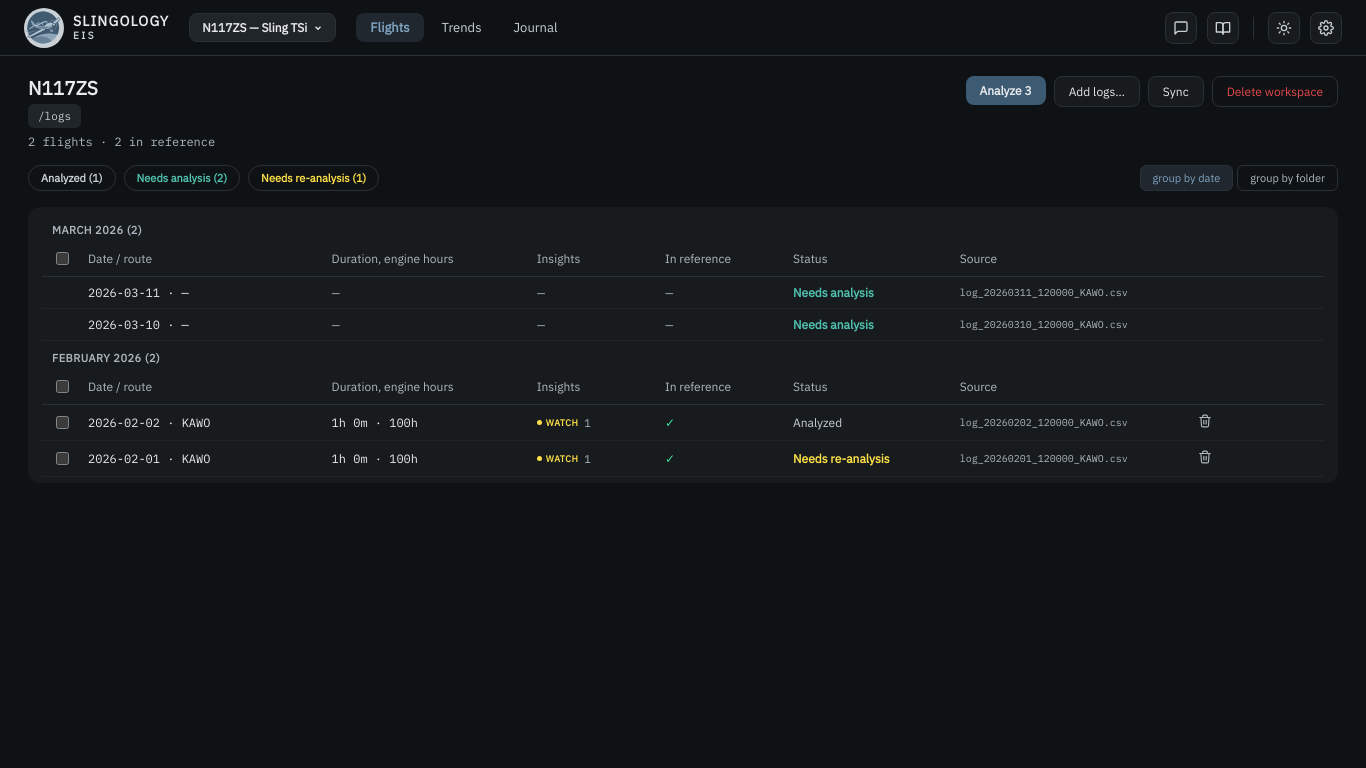
Test: Flights — adding logs and Sync consent › Sync with new and stale work asks; Not now leaves Needs analysis / Needs re-analysis rows and Analyze N
The width and height of the screenshot is (1366, 768).
Click the button "Sync" at (1176, 92), box [1148,76,1204,107]
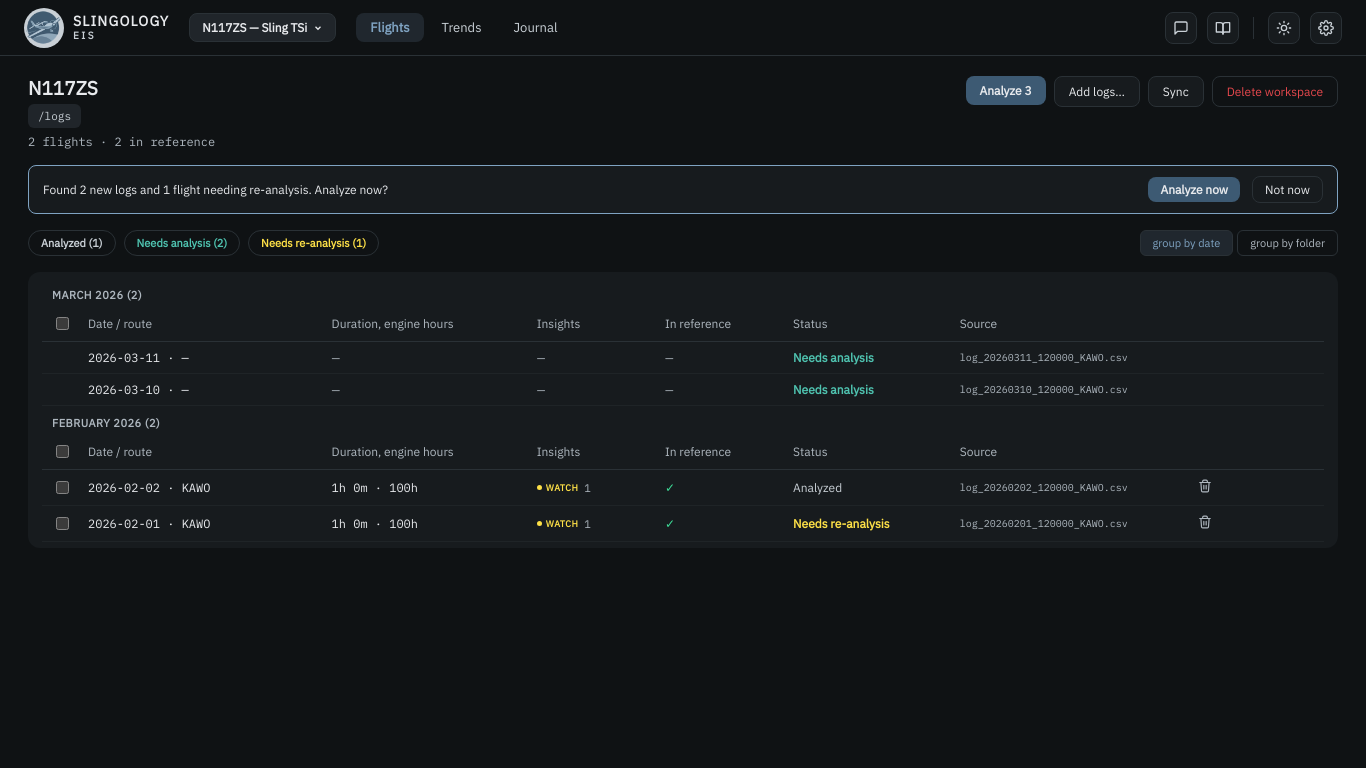
Check: the dialog "Analyze now?" shows "Found 2 new logs and 1 flight needing re-analysis. Analyze now?", box [43,182,388,197]
Click the button "Not now" at (1288, 190), box [1252,176,1323,203]
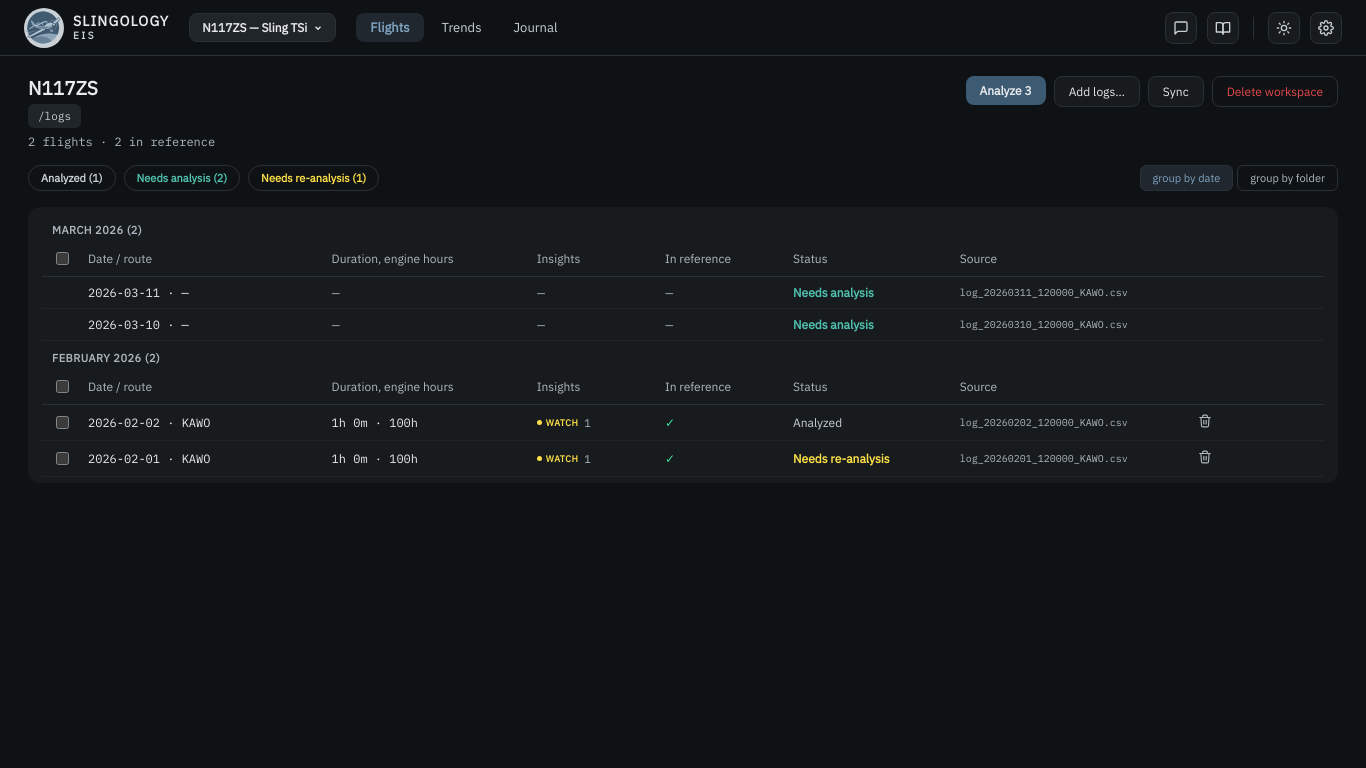
Check: the text "Needs analysis" in the row of "2026-03-11" is shown, box [793,285,874,300]
Check: the dialog is gone
